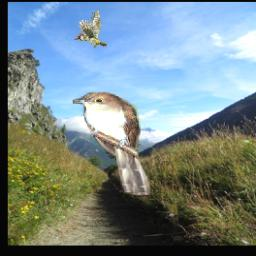Cuckoo: (73, 90, 150, 195)
Woodpecker: (74, 10, 107, 49)
